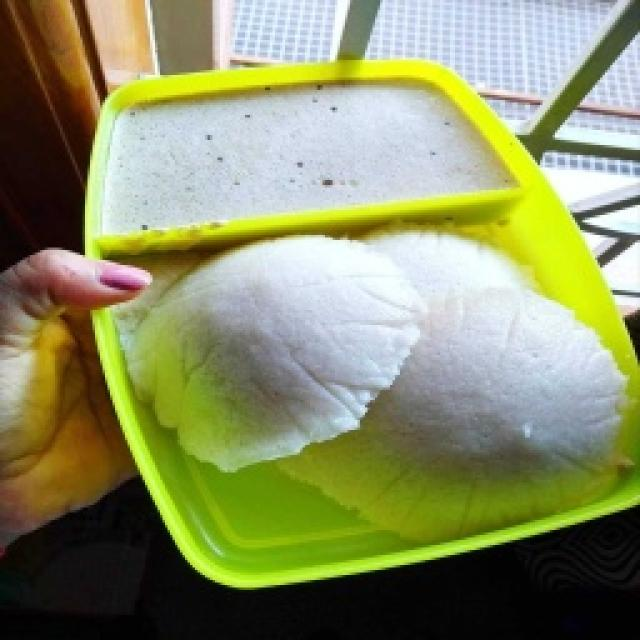idli: (278, 288, 624, 542), (128, 235, 422, 469), (360, 223, 534, 297)
